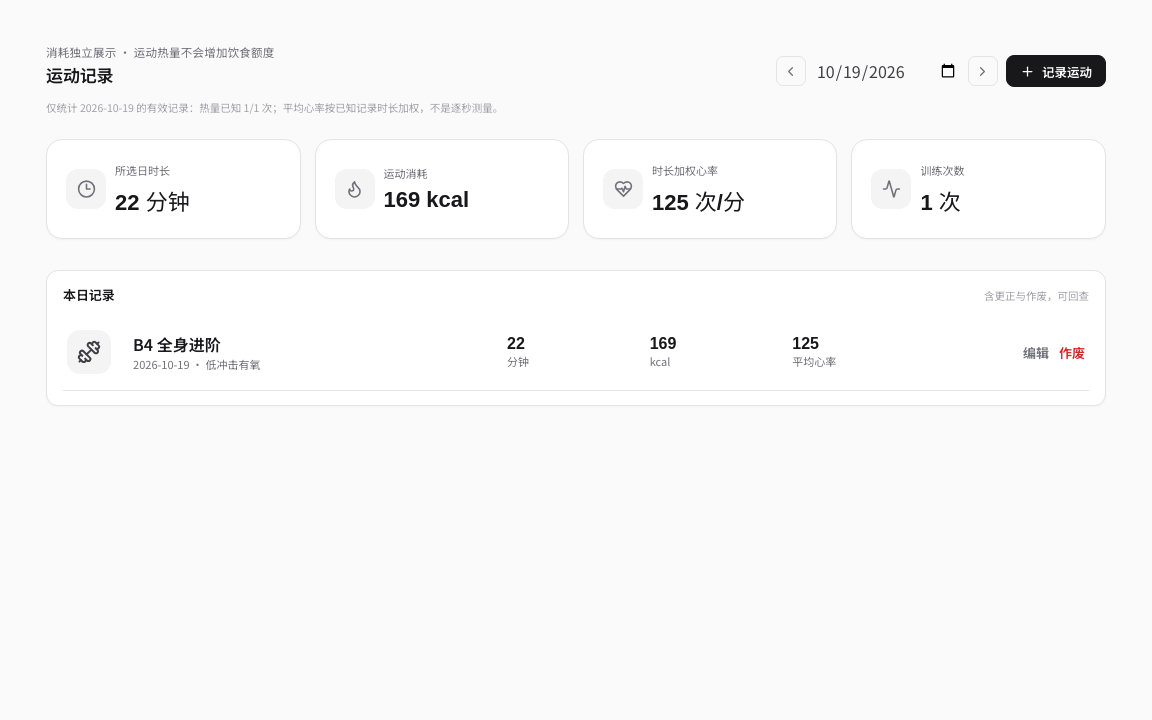
Test: fills the new form from the last active workout
What coordinates should you click on to do the following:
click the button "记录运动"
I would click on:
 (1056, 71)
Its box is [1006,55,1106,87].
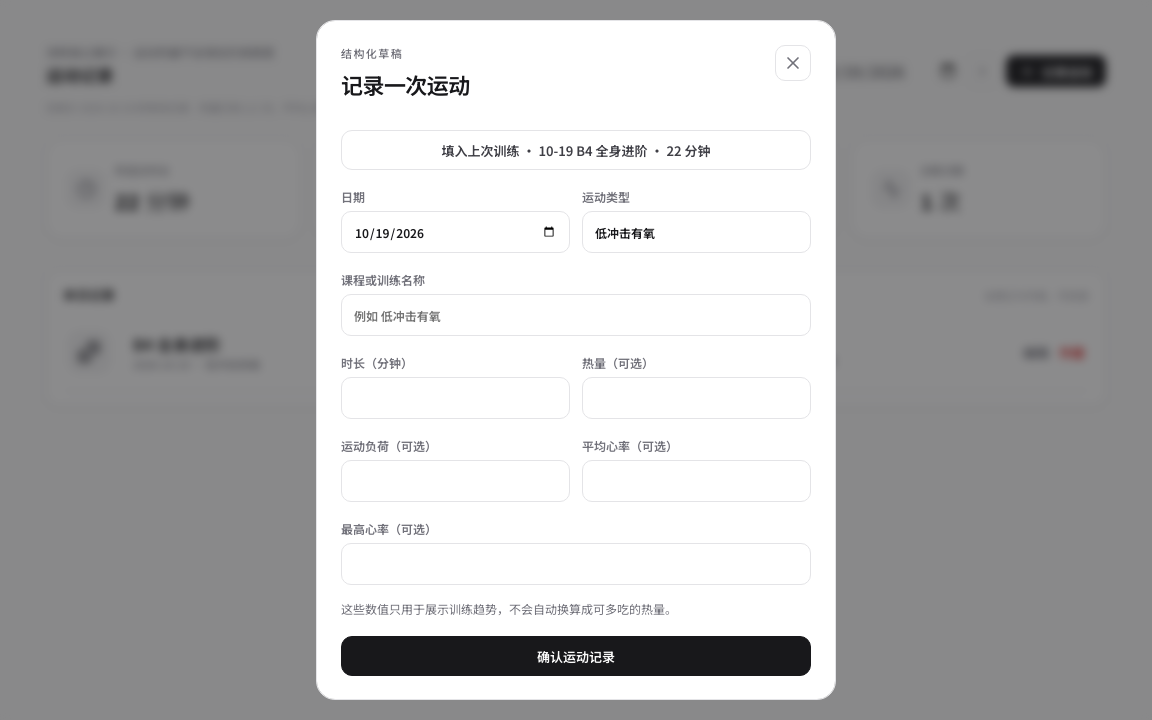
Expected: the button "填入上次训练 · 10-19 B4 全身进阶 · 22 分钟" is shown
What coordinates should you click on to do the following:
click the button "填入上次训练 · 10-19 B4 全身进阶 · 22 分钟"
I would click on:
 (576, 150)
Its box is [341,130,811,170].
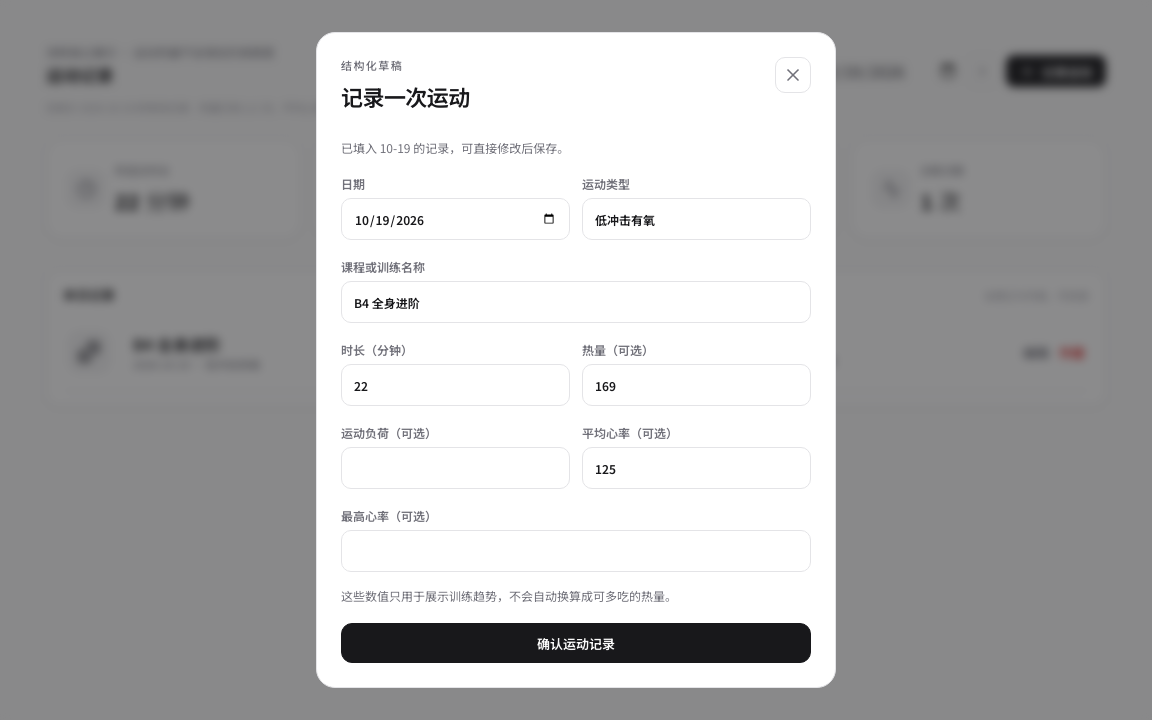
Expected: the field labelled "课程或训练名称" holds "B4 全身进阶", [341,281,811,323]
Expected: the number field labelled "时长（分钟）" holds "22", [341,364,570,406]
Expected: the number field labelled "热量（可选）" holds "169", [582,364,811,406]
复制只带业务字段：sourceFingerprint 一旦被带过去，add_workout 会当成重复直接不写。
What coordinates should you click on to do the following:
click the button "确认运动记录"
I would click on:
 (576, 643)
Its box is [341,623,811,663].
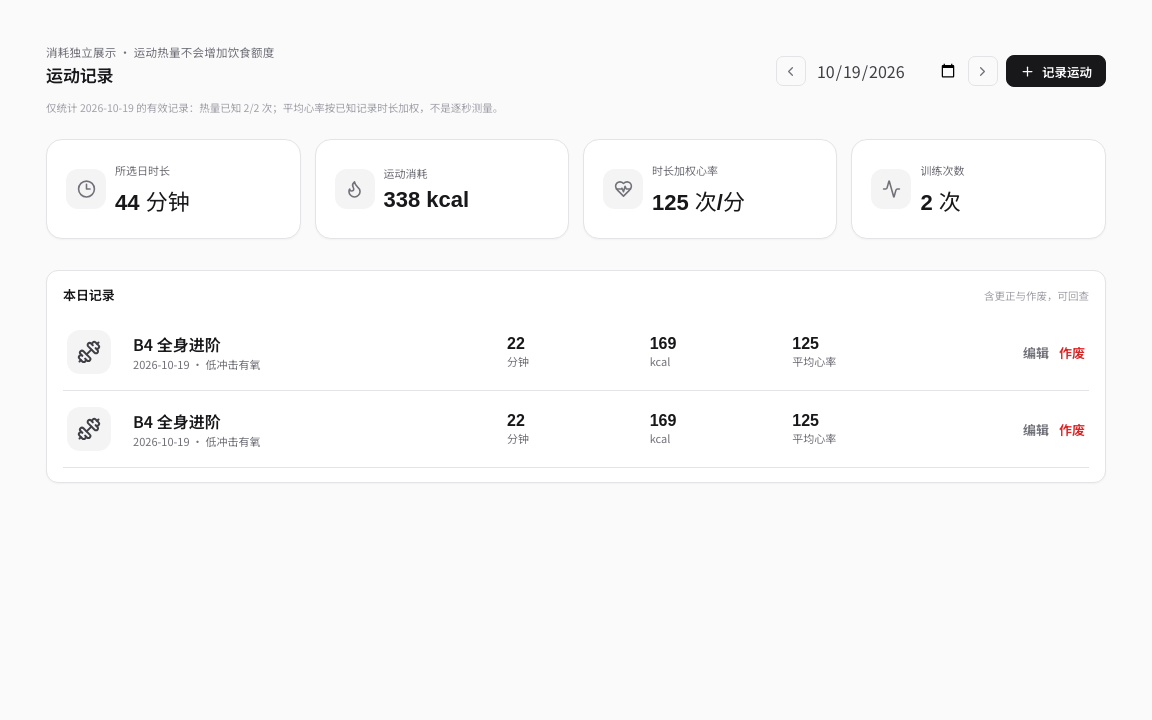
Expected: the 1st text "B4 全身进阶" is shown, [133,332,221,356]
